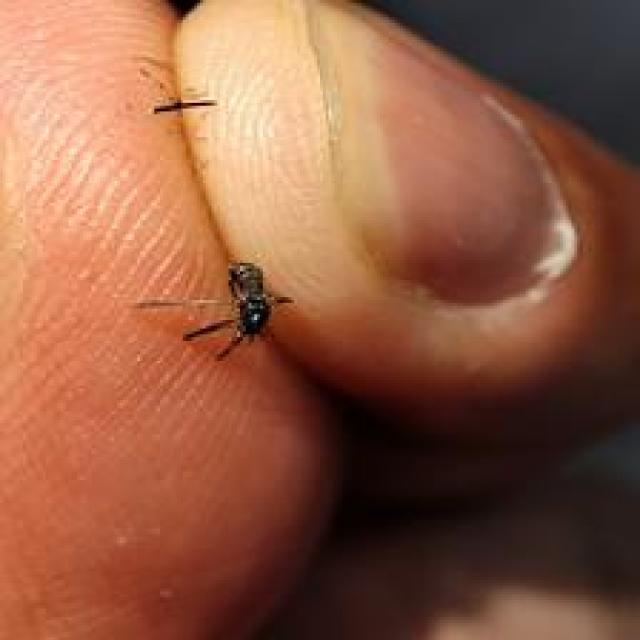Aedes albopictus: (134, 258, 294, 362)
